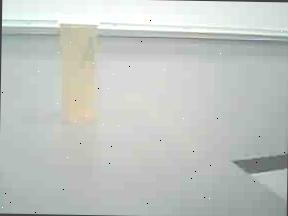Bottle A: (52, 10, 106, 131)
